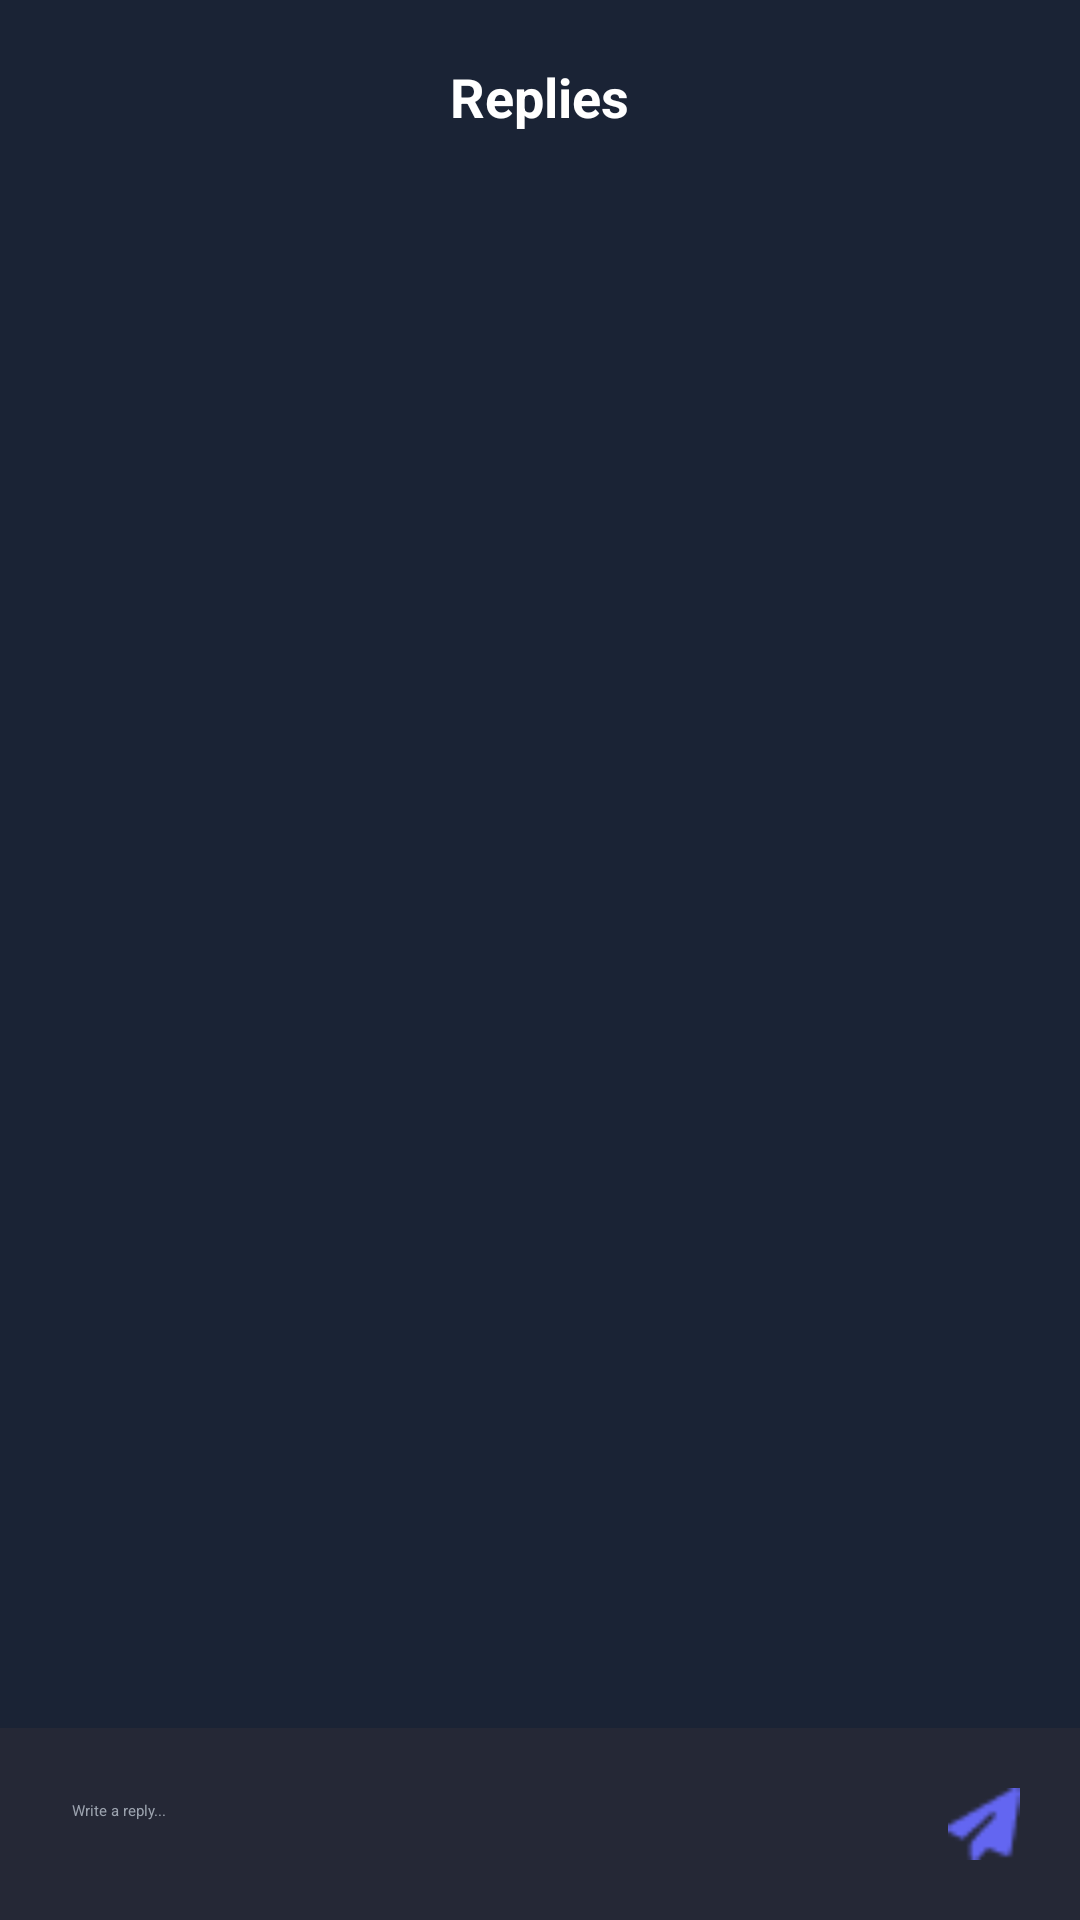

Icons on this 1080px×1920px Android screen, each with its box as (x1, y1, x2, y2):
send: (948, 1788, 1020, 1860)
